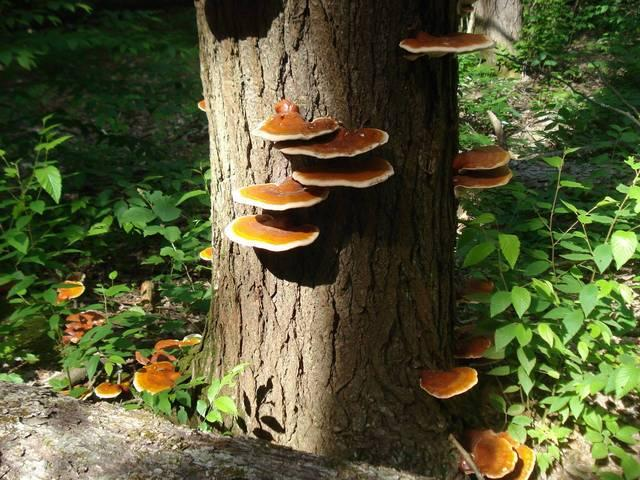Non-edible Mushroom: (221, 102, 391, 261), (404, 314, 543, 480), (91, 330, 201, 405), (435, 129, 512, 192), (51, 273, 89, 353), (397, 29, 495, 60)
